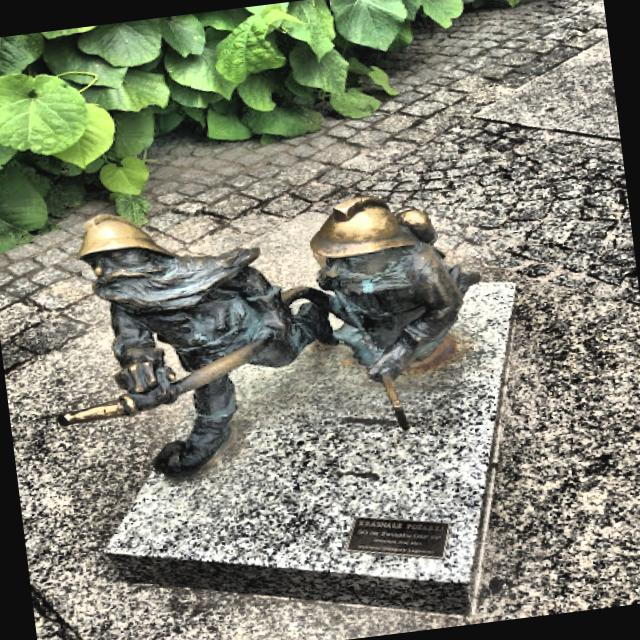Pozarki: (58, 195, 482, 477)
